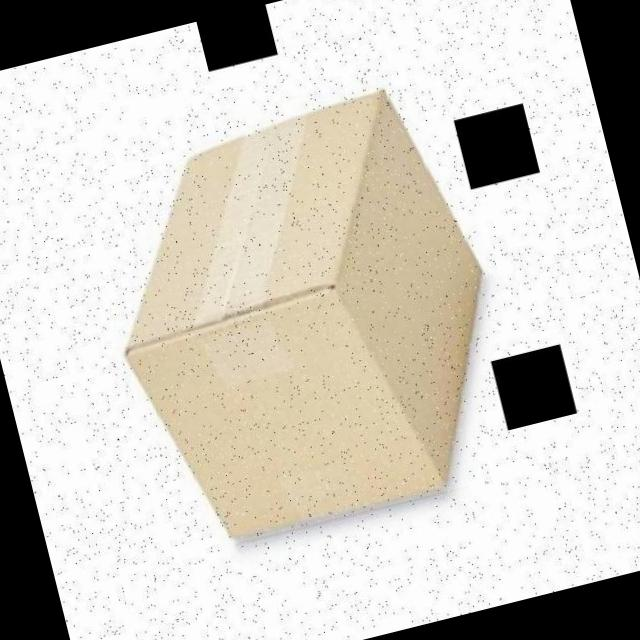box: (64, 66, 538, 561)
